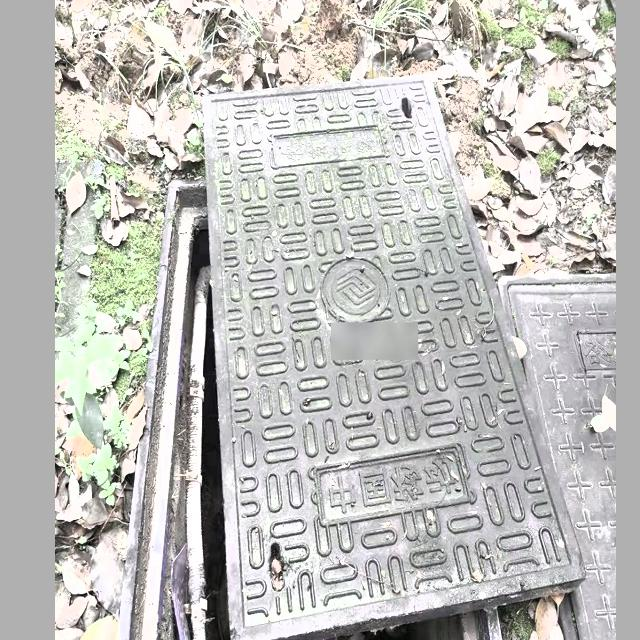uncovered: (78, 69, 578, 640)
